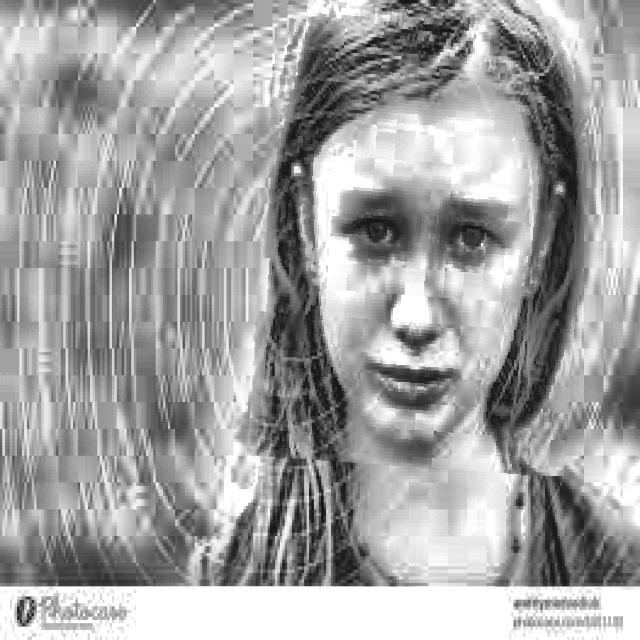sad: (255, 2, 589, 471)
